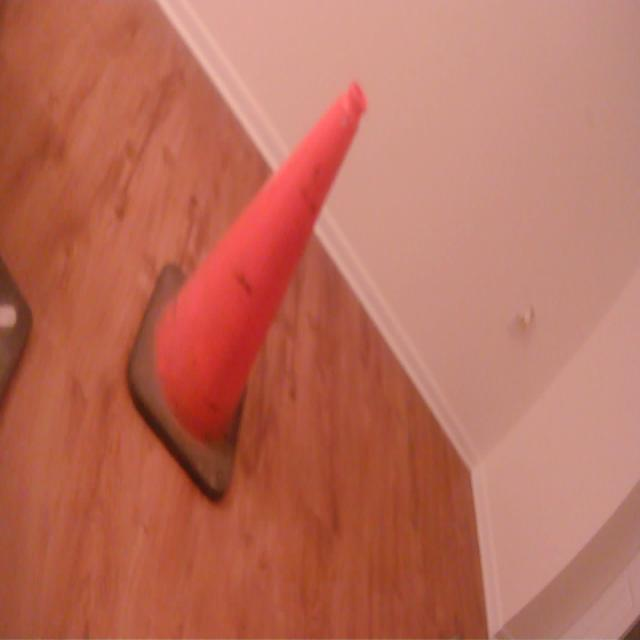traffic cone: (122, 75, 372, 509)
